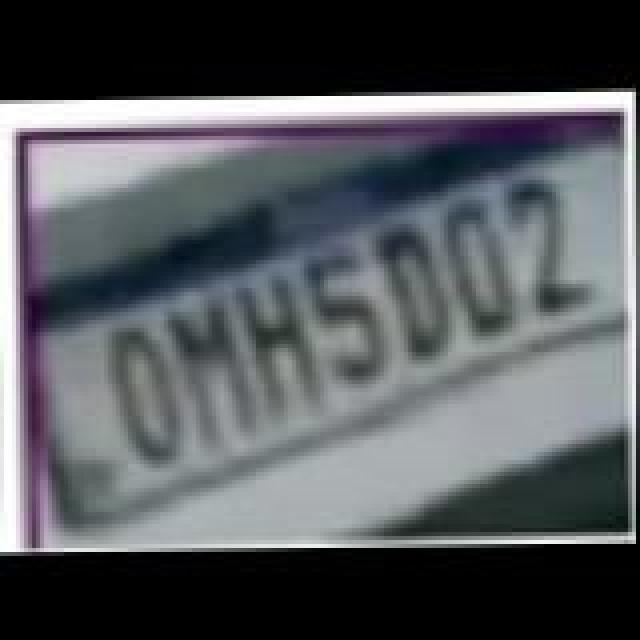2: (504, 180, 592, 316)
5: (306, 250, 394, 382)
D: (374, 222, 462, 358), (440, 196, 524, 336)
H: (238, 270, 326, 418)
M: (168, 298, 260, 442)
O: (108, 322, 188, 466)
